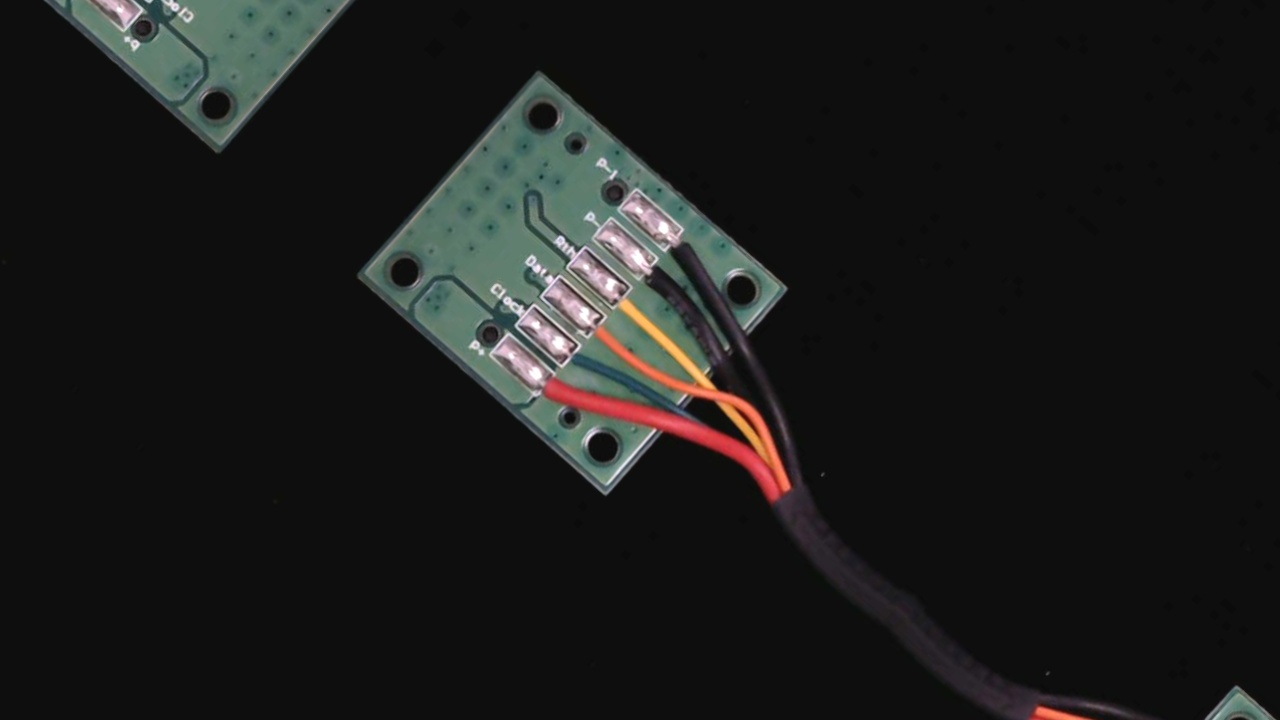Black: (624, 247, 697, 316)
Black1: (652, 218, 725, 287)
Green: (551, 336, 615, 397)
Orange: (571, 301, 647, 373)
Red: (526, 362, 590, 424)
Yellow: (598, 275, 670, 344)
